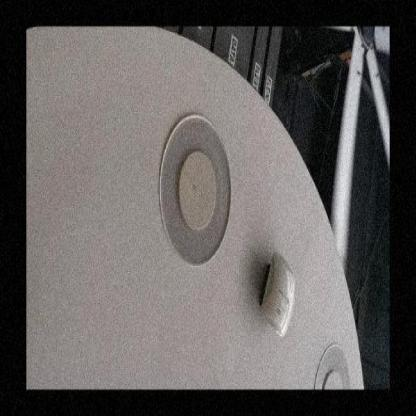light_off: (149, 82, 241, 282)
